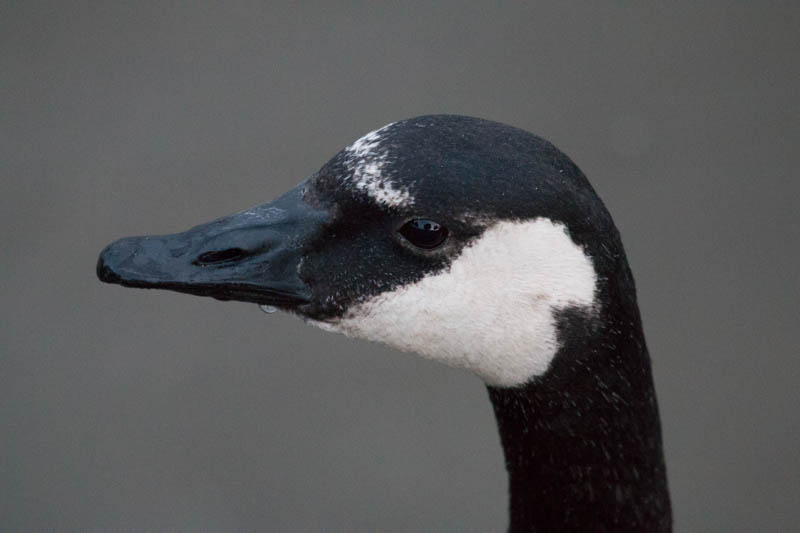goose-head: (97, 112, 638, 389)
